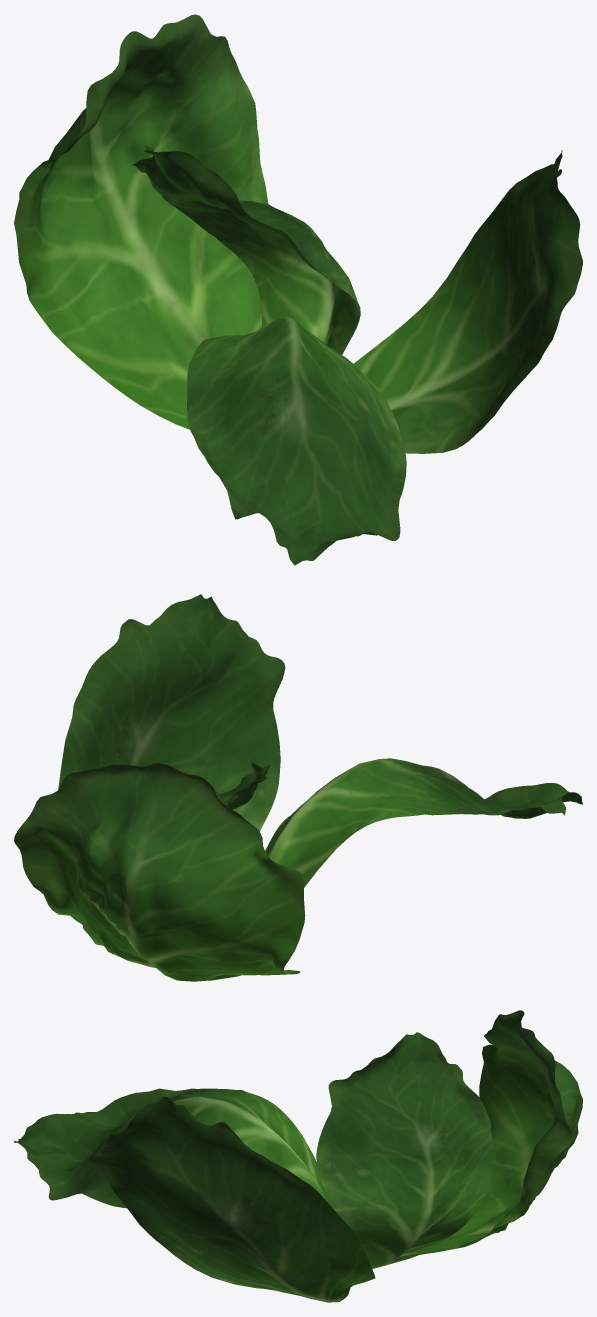
Rendered from SM_Plant_12.fbx.
The picture shows the model from 3 angles, top to bottom: view 1: azimuth 30°, elevation 25°; view 2: azimuth 150°, elevation 25°; view 3: azimuth 270°, elevation 25°; orthographic projection. The views are drawn at different scales.
Parts seen in each view (by area): view 1: SM_Plant_12; view 2: SM_Plant_12; view 3: SM_Plant_12.
Part boxes in pixels (bbox=[...]): SM_Plant_12: bbox=[14, 14, 582, 565]; SM_Plant_12: bbox=[14, 594, 582, 981]; SM_Plant_12: bbox=[14, 1010, 582, 1302].
Size of the model in its own units: 12.22 by 18.11 by 9.02.
1 material, 1 textured.
